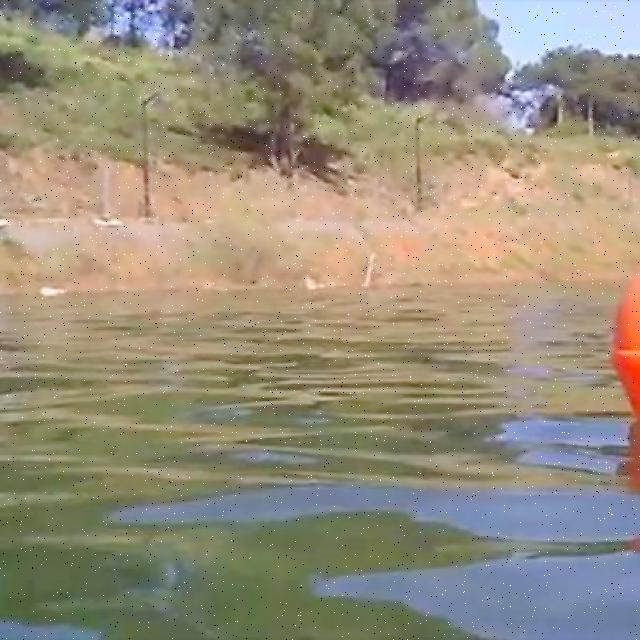buoy: (618, 274, 638, 412)
